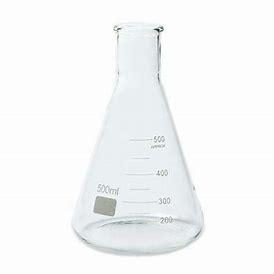Titrarion: (59, 18, 208, 256)
